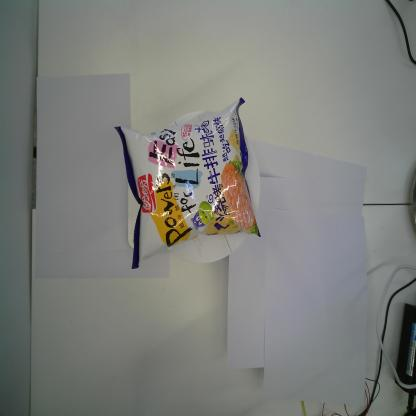Puffed Food: (114, 97, 262, 274)
